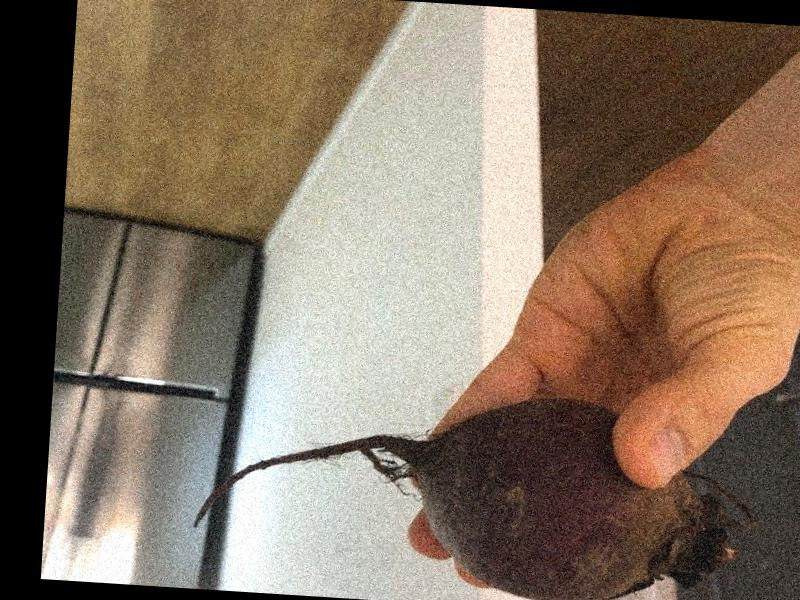Beet: (191, 380, 763, 600)
